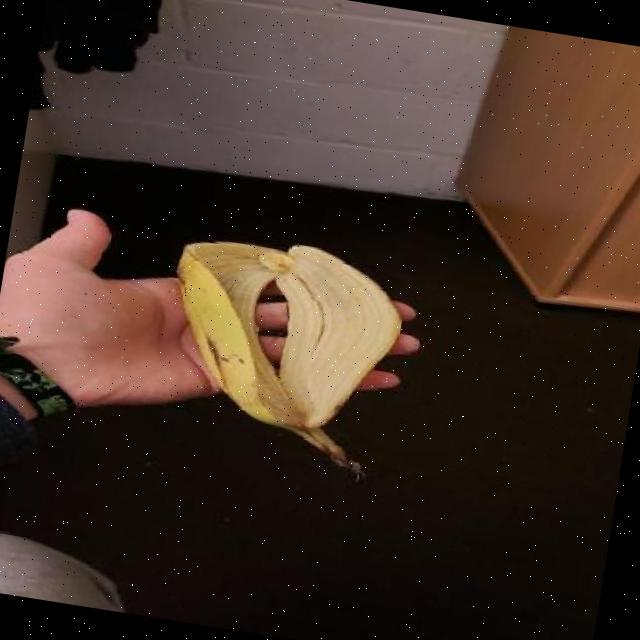banana-peel: (146, 221, 415, 482)
